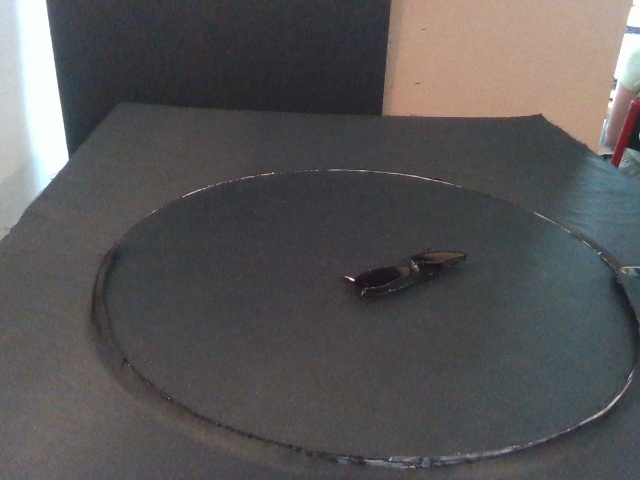glasses: (343, 247, 469, 301)
